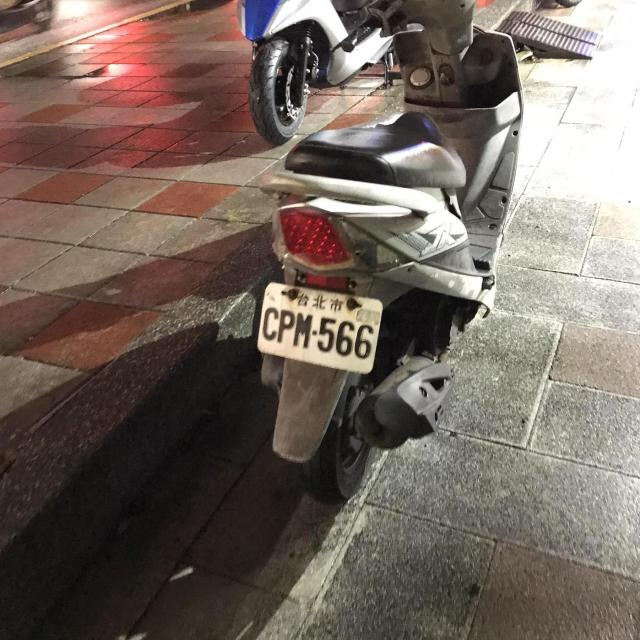W: (250, 270, 387, 376)
